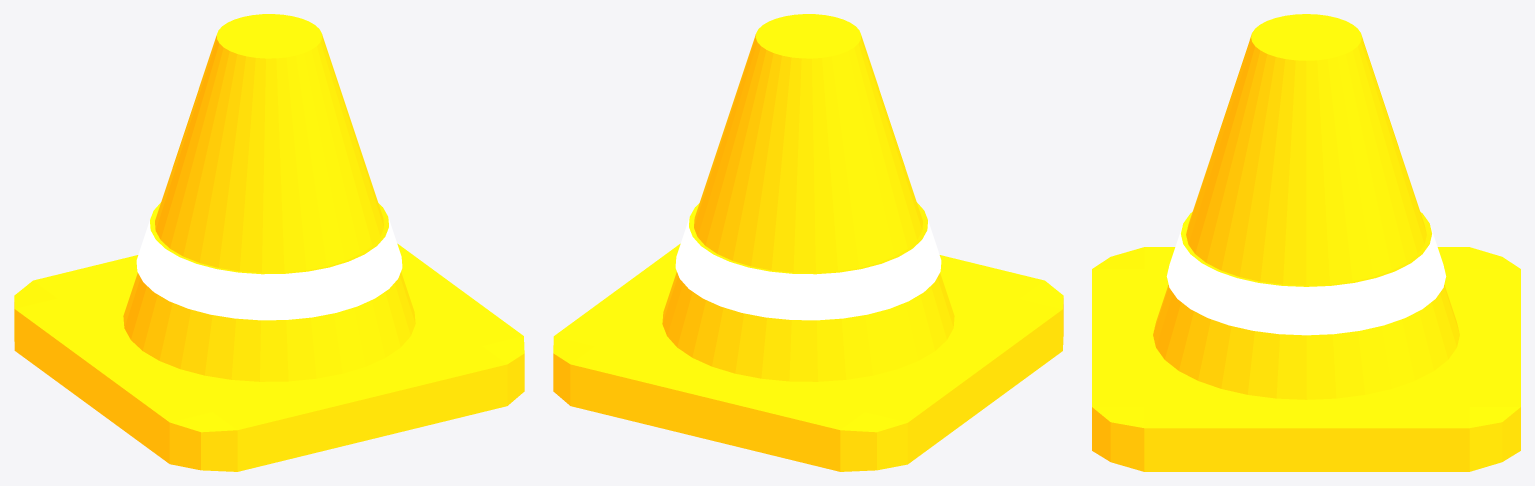
File: traffic_cone.glb
3 renders of one model, left to right at view 1: azimuth 30°, elevation 25°; view 2: azimuth 150°, elevation 25°; view 3: azimuth 270°, elevation 25°, orthographic. The views are drawn at different scales.
Parts seen in each view (by area): view 1: Cone; view 2: Cone; view 3: Cone.
Boxes of the visible parts, x1,y1,x2,y2 form: Cone: (14,14,524,471); Cone: (553,14,1063,471); Cone: (1092,14,1520,471).
Bounding box in the file's own units: 0.6926 × 0.6131 × 0.6926.
